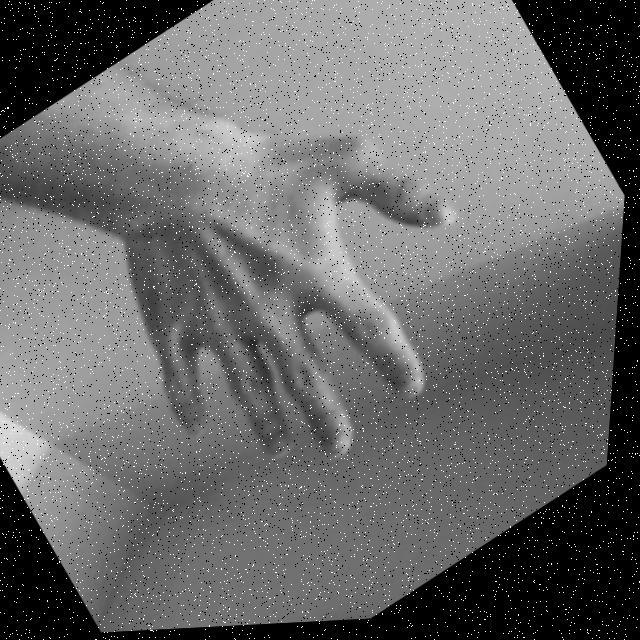no-gloves: (71, 66, 553, 539)
